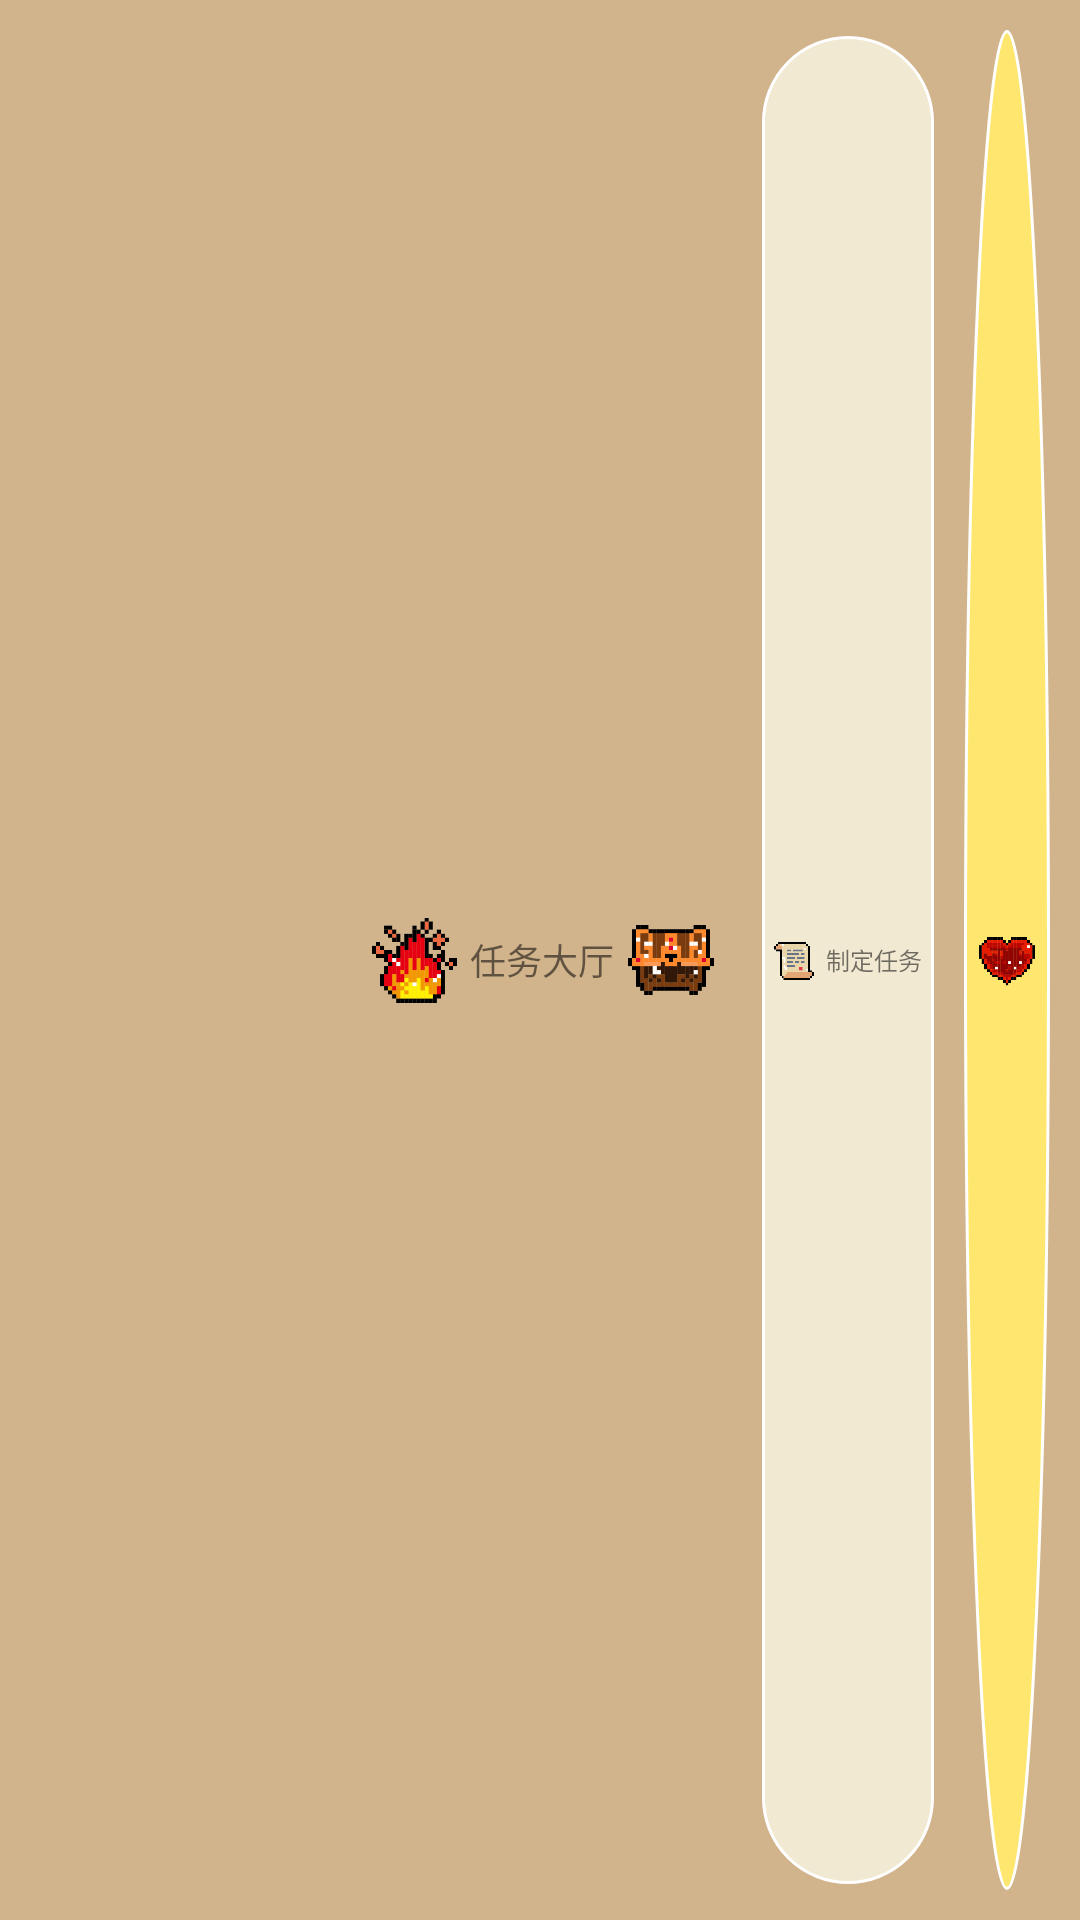

Named icons in this screenshot (1080*1920) and their bounding boxes, (x1, y1, x2, y2):
fire pixel: (372, 918, 457, 1003)
treasure pixel: (628, 925, 714, 995)
